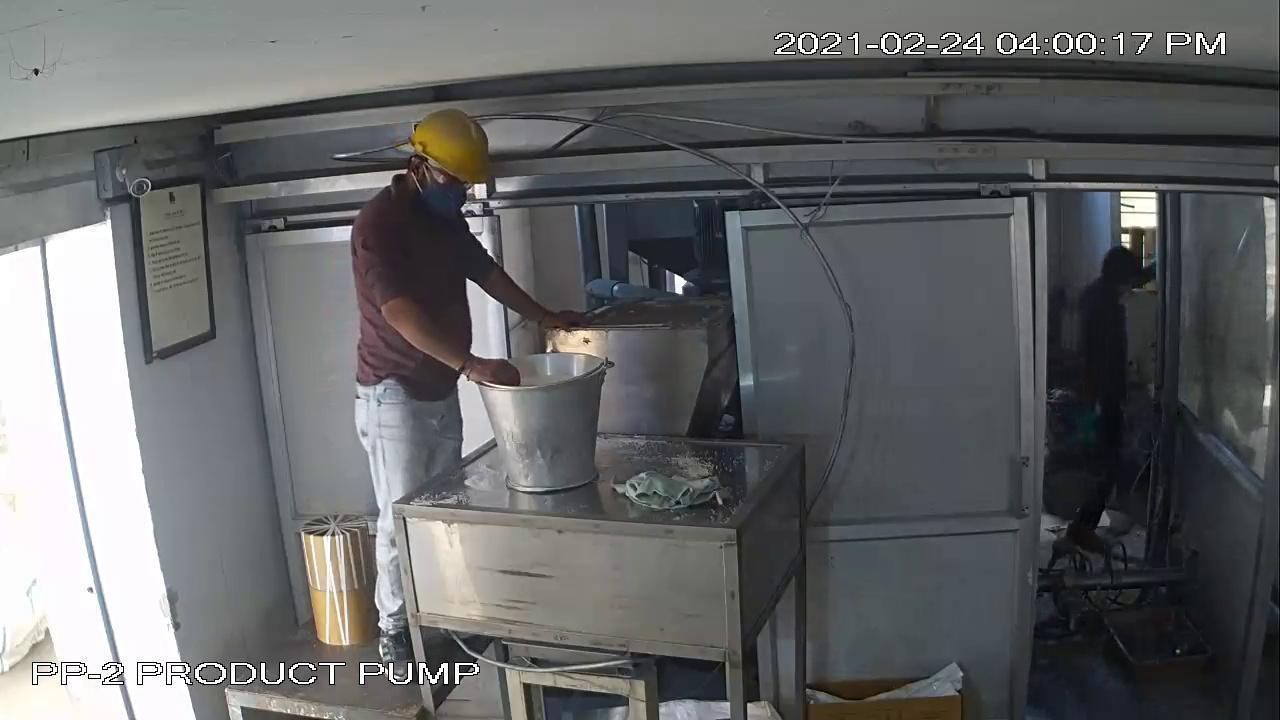helmet: (408, 100, 501, 190)
